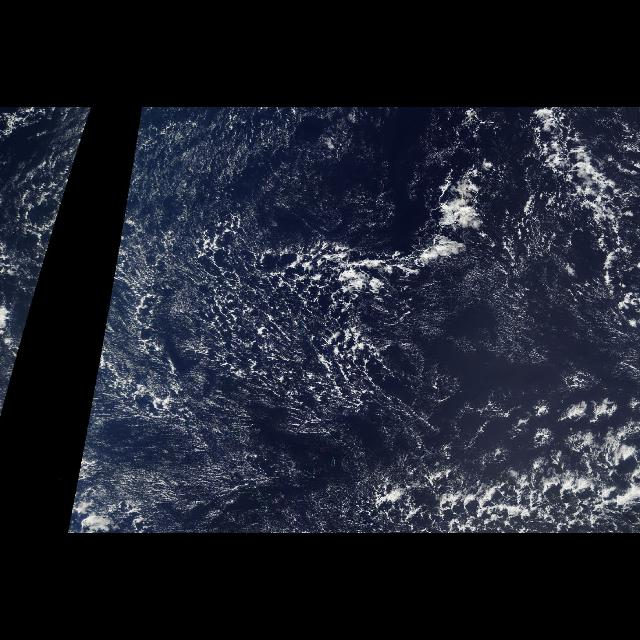Gravel: (114, 119, 638, 534)
Sugar: (74, 414, 380, 530), (120, 110, 406, 222), (418, 260, 590, 412), (66, 114, 90, 186)
